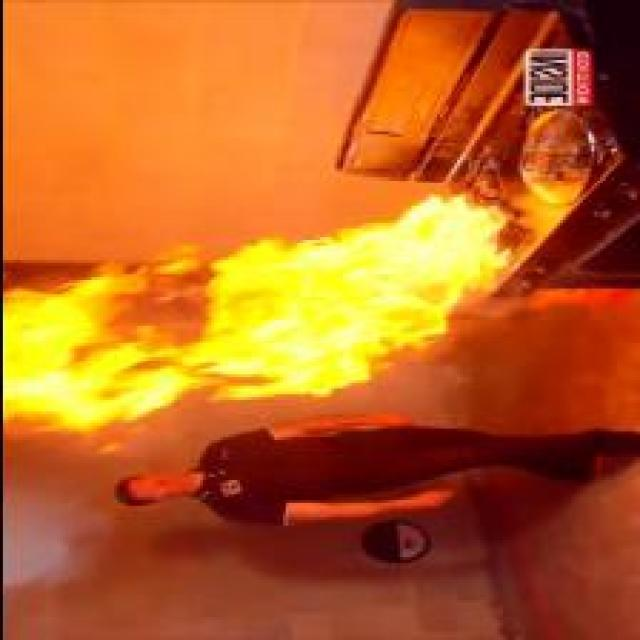Fire: (1, 194, 508, 442)
